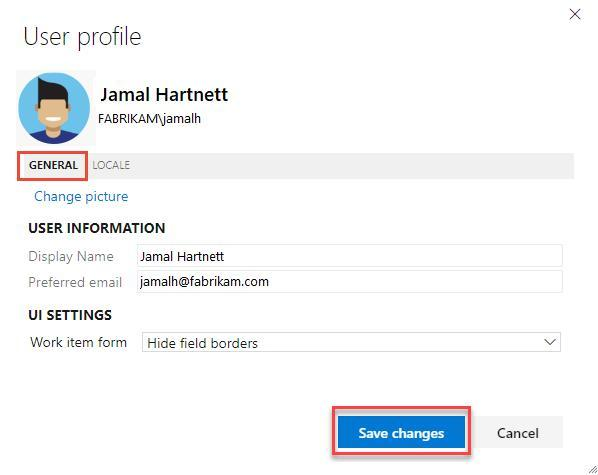button: (339, 415, 465, 449), (473, 419, 563, 447)
dropdown: (143, 332, 562, 354)
icon: (571, 10, 582, 20)
input: (89, 154, 574, 179), (139, 271, 564, 295), (139, 244, 564, 266)
label: (18, 20, 149, 57), (29, 219, 169, 239), (31, 335, 129, 352), (29, 307, 118, 325), (26, 249, 118, 265), (28, 277, 127, 291)
